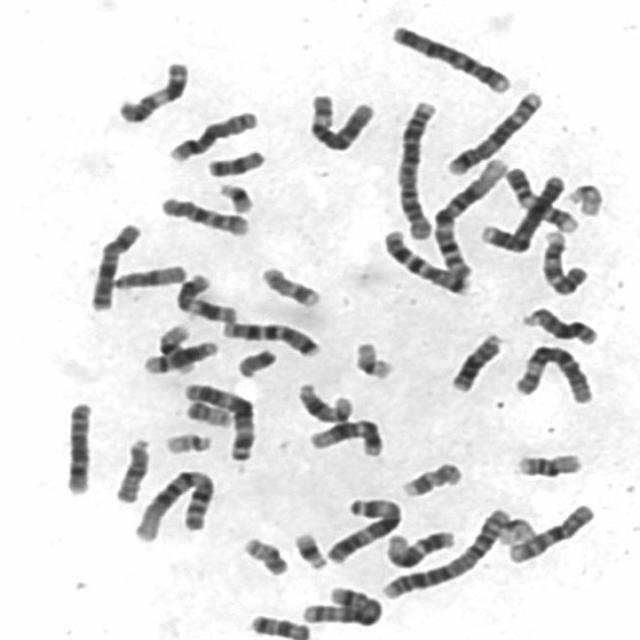A1: (433, 156, 512, 281), (132, 468, 216, 544)
A2: (379, 506, 509, 599), (396, 100, 441, 242)
A3: (180, 381, 258, 464), (324, 496, 405, 566)
B4: (388, 23, 514, 96), (477, 172, 567, 256)
B5: (444, 89, 547, 177), (298, 586, 384, 627)
C10: (505, 500, 596, 564), (159, 195, 252, 238)
C11: (118, 60, 190, 125), (175, 271, 242, 325)
C12: (309, 419, 385, 459), (385, 528, 457, 570)
C6: (513, 345, 599, 406), (307, 91, 378, 152)
C7: (380, 225, 472, 296), (222, 320, 324, 360)
C8: (167, 110, 259, 165), (66, 400, 93, 496)
C9: (502, 165, 580, 235), (540, 226, 588, 296)
D13: (449, 332, 509, 393), (518, 303, 598, 346)
D14: (142, 339, 220, 376), (296, 381, 354, 425)
D15: (113, 437, 150, 505), (111, 262, 189, 290)
E16: (157, 324, 197, 376), (515, 450, 584, 479)
E17: (257, 263, 323, 309), (402, 462, 464, 498)
E18: (244, 613, 315, 640), (207, 149, 268, 178)
F19: (352, 339, 398, 381), (497, 516, 538, 548)
F20: (240, 535, 288, 576), (181, 398, 233, 428)
G21: (290, 531, 332, 572), (218, 183, 256, 216)
G22: (567, 182, 608, 217), (162, 431, 216, 456)
X: (87, 221, 143, 313)
Y: (235, 346, 278, 378)
